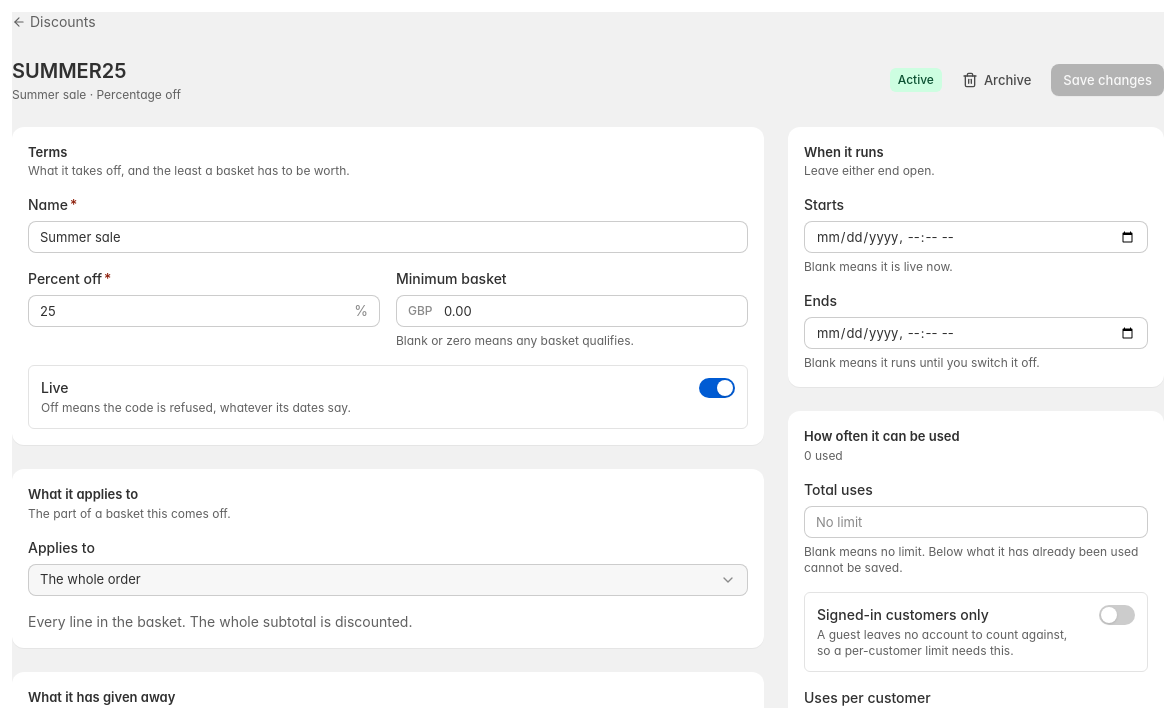
Test: DiscountDetailPage › passes a server refusal through in its own words
Replace the text in the field labelled "Name*" with "Renamed" at (388, 237), box [28, 221, 748, 253]
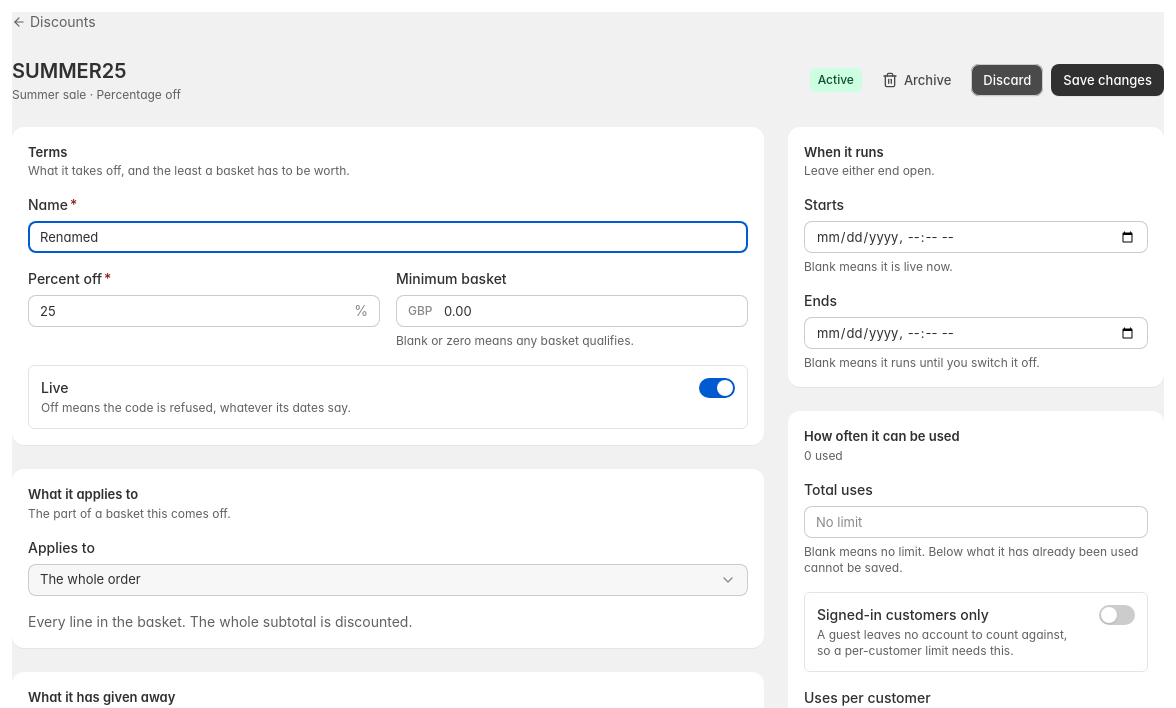
Click the button "Save changes" at (1108, 80), box [1051, 64, 1164, 96]
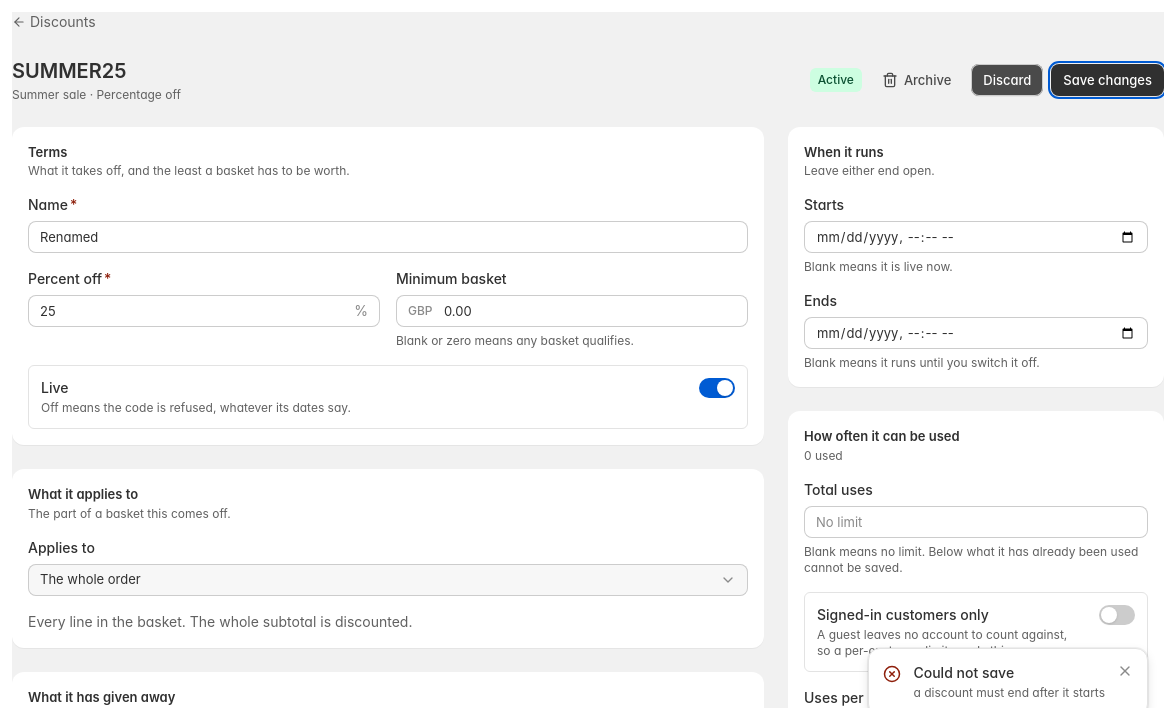
Expected: the text "a discount must end after it starts" is shown, [914, 685, 1105, 701]
